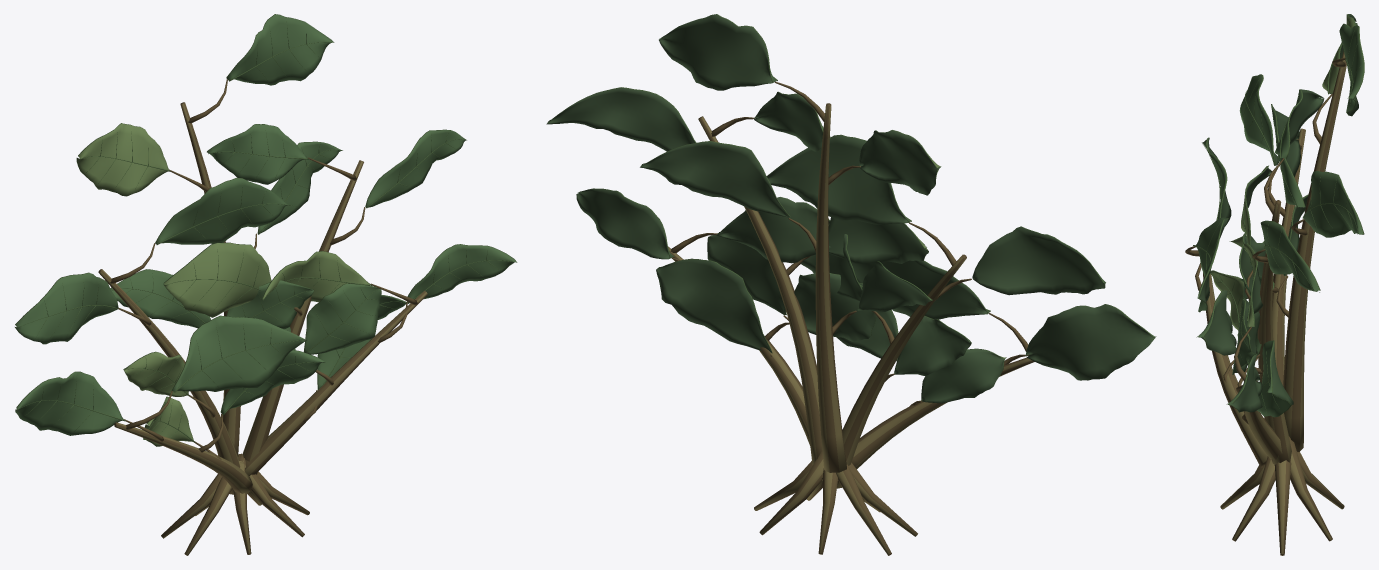
The model's file is vault-rooted-bush.glb.
3 renders of one model, left to right at view 1: azimuth 30°, elevation 25°; view 2: azimuth 150°, elevation 25°; view 3: azimuth 270°, elevation 25°, orthographic. The views are drawn at different scales.
Parts seen in each view (by area): view 1: vault-rooted-bush; view 2: vault-rooted-bush; view 3: vault-rooted-bush.
Boxes of the visible parts, left/top/right/bottom form: vault-rooted-bush: left=15, top=14, right=517, bottom=555; vault-rooted-bush: left=546, top=14, right=1156, bottom=555; vault-rooted-bush: left=1185, top=14, right=1364, bottom=555.
Size of the model in its own units: 1.6 by 1.41 by 0.4336.
